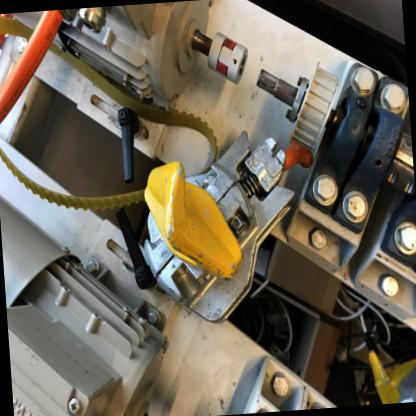Twistlock: (127, 112, 334, 332), (363, 340, 415, 401)
